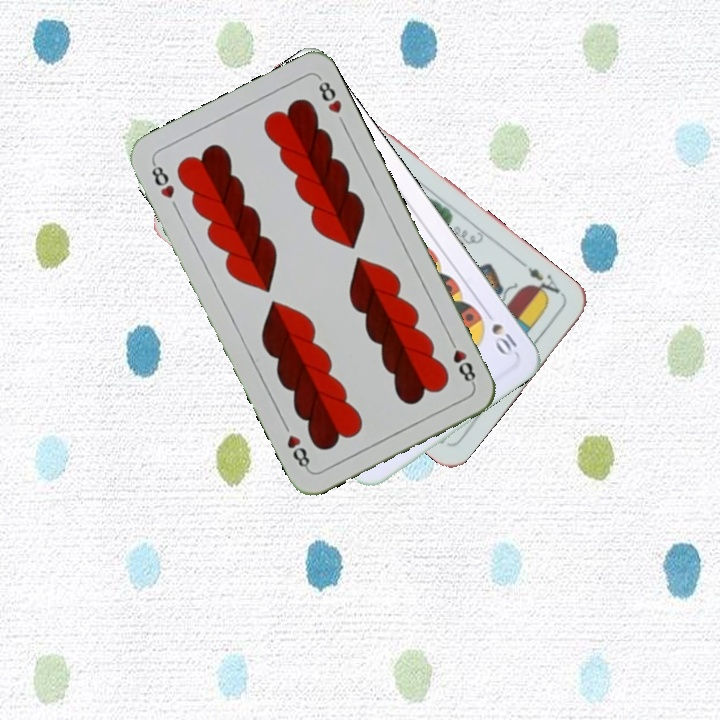EA: (516, 257, 567, 302)
H8: (444, 333, 479, 388), (147, 158, 177, 202)
S10: (480, 305, 522, 359)
